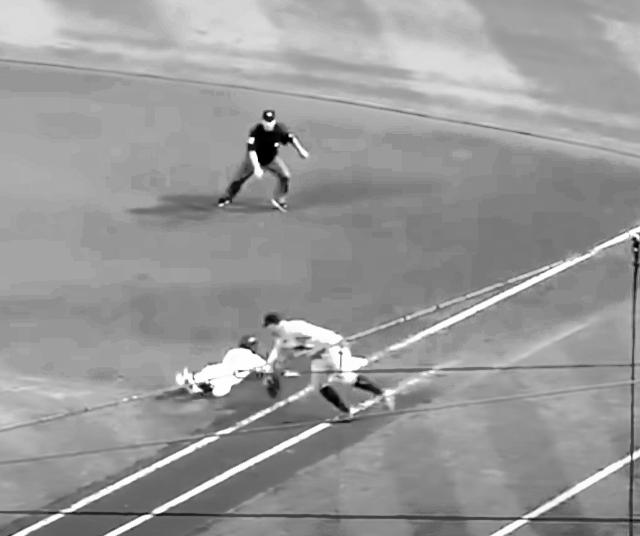jatuh: (259, 309, 403, 427), (167, 338, 306, 398)
